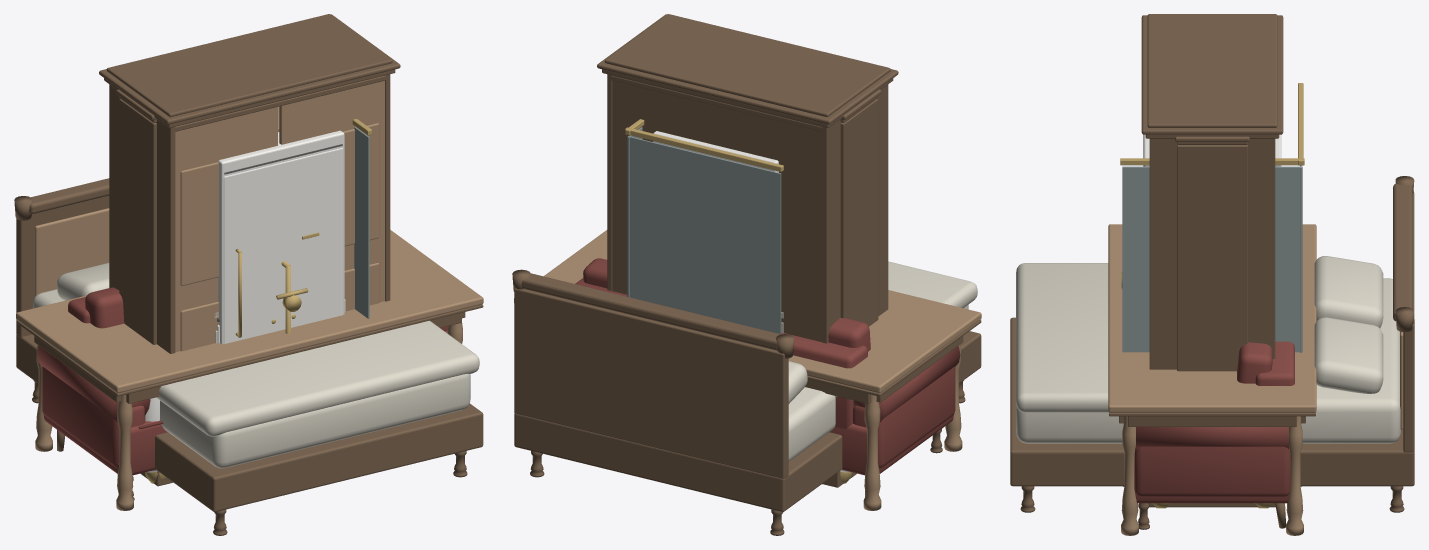
Rendered from furniture.glb.
The picture shows the model from 3 angles, left to right: view 1: azimuth 30°, elevation 25°; view 2: azimuth 150°, elevation 25°; view 3: azimuth 270°, elevation 25°; orthographic projection.
Visible parts, largest first — view 1: bed, wardrobe, fridge, dining_table, sofa, bookshelf, shower; view 2: bed, wardrobe, shower, dining_table, sofa, bookshelf, fridge; view 3: bed, wardrobe, dining_table, bookshelf, sofa, shower, desk.
Part boxes in pixels (x1,y1,x2,y2): bed: [14, 178, 483, 535]; wardrobe: [99, 14, 400, 353]; fridge: [218, 130, 344, 344]; dining_table: [16, 230, 483, 510]; sofa: [37, 287, 462, 500]; bookshelf: [116, 89, 279, 344]; shower: [276, 118, 371, 333]; bed: [512, 261, 981, 535]; wardrobe: [597, 14, 898, 484]; shower: [625, 119, 783, 334]; dining_table: [514, 230, 981, 510]; sofa: [575, 258, 960, 496]; bookshelf: [840, 89, 881, 326]; fridge: [653, 131, 778, 172]; bed: [1010, 176, 1414, 512]; wardrobe: [1141, 14, 1283, 369]; dining_table: [1108, 224, 1316, 535]; bookshelf: [1175, 136, 1249, 371]; sofa: [1134, 341, 1294, 529]; shower: [1120, 83, 1304, 486]; desk: [1149, 503, 1275, 507].
Bounding box in the file's own units: 2.2 × 2.14 × 2.06.
